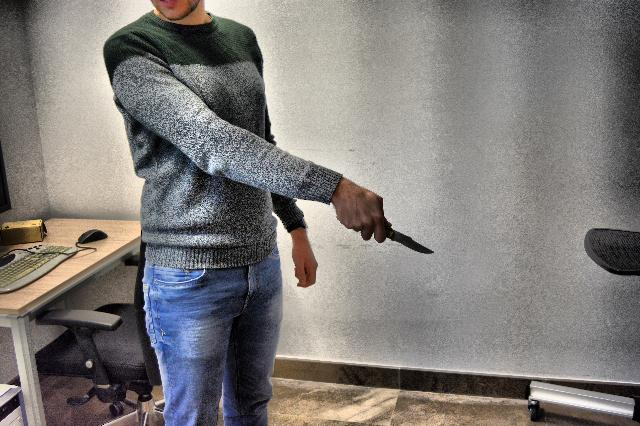knife: (356, 210, 440, 258)
